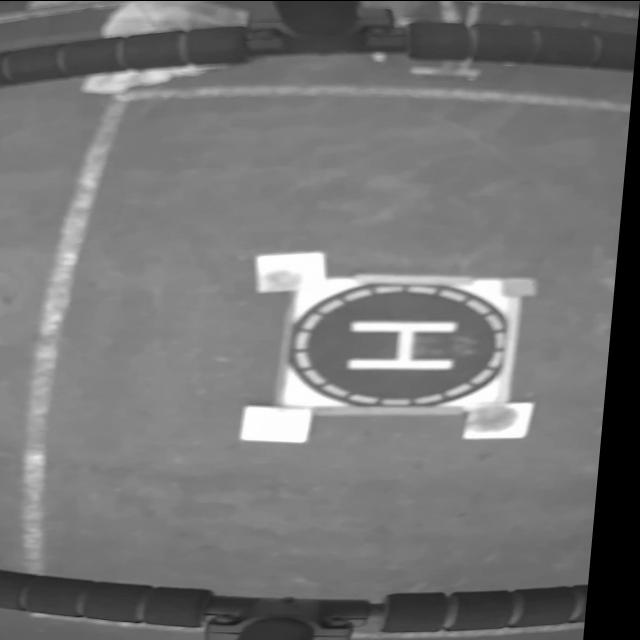Helipad: (353, 320, 465, 369)
